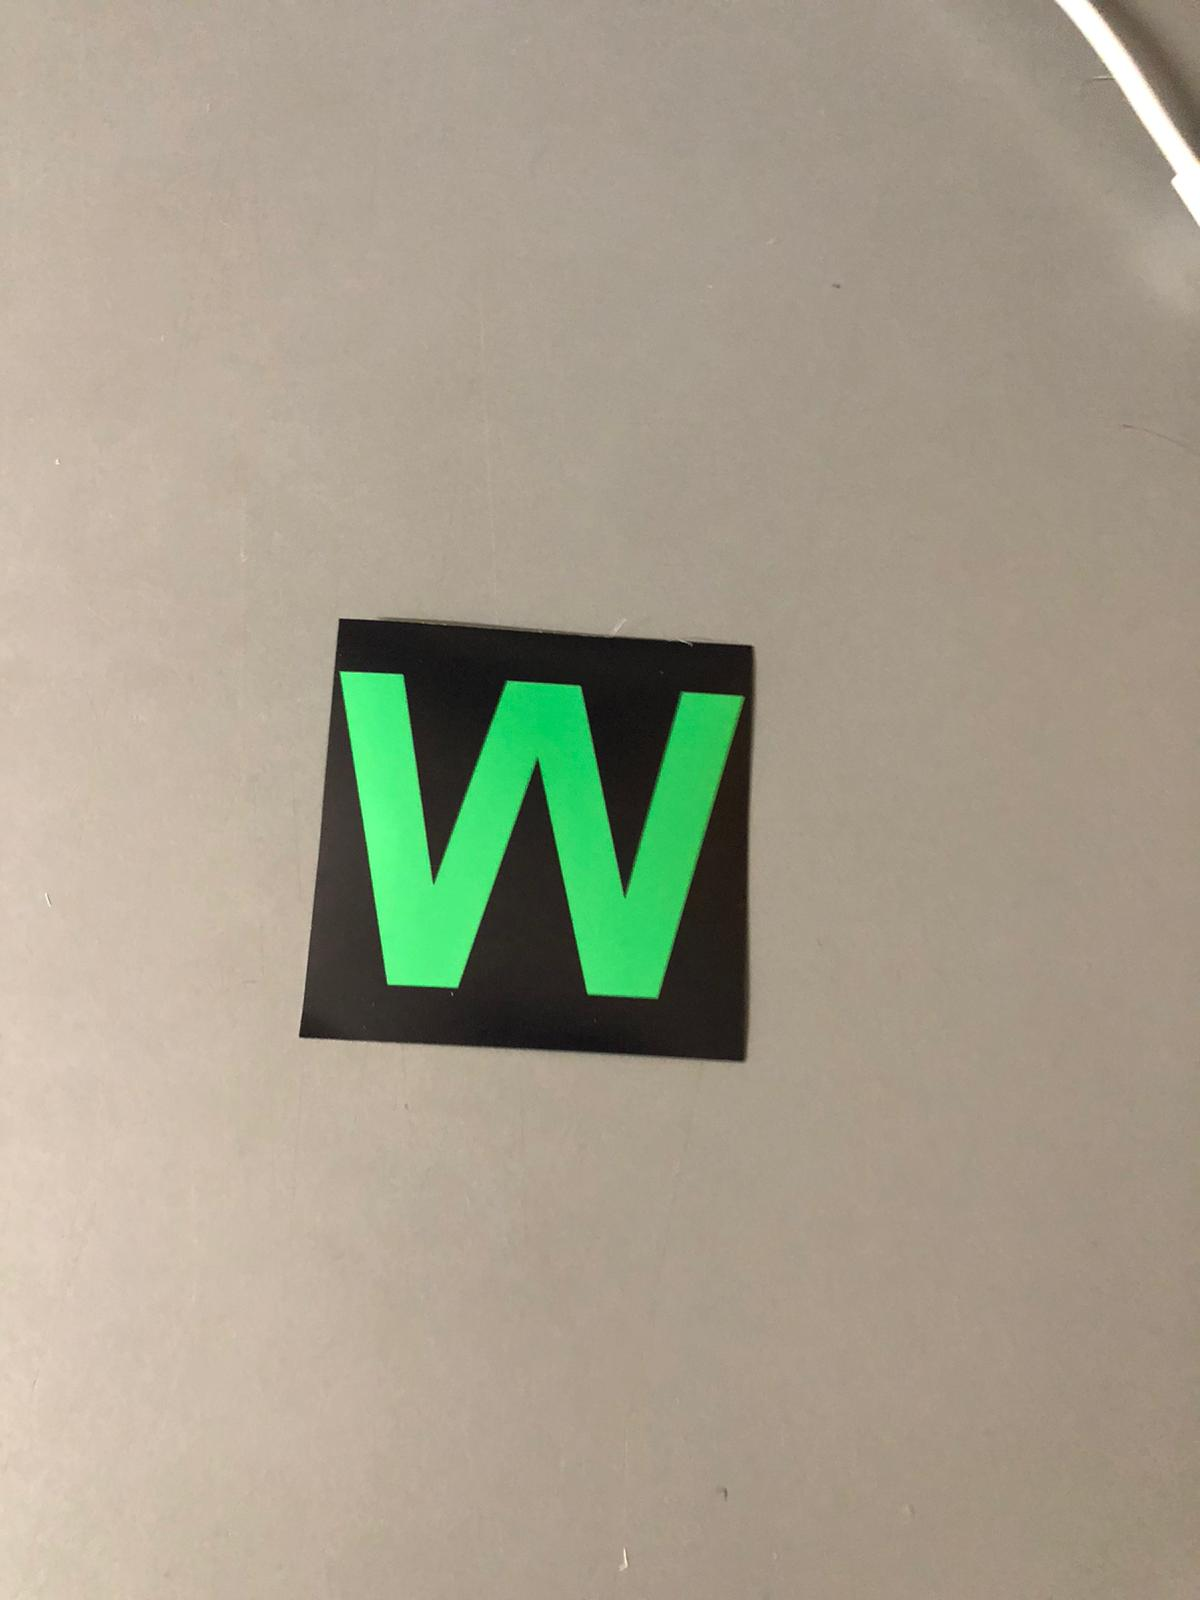W: (326, 639, 765, 1056)
